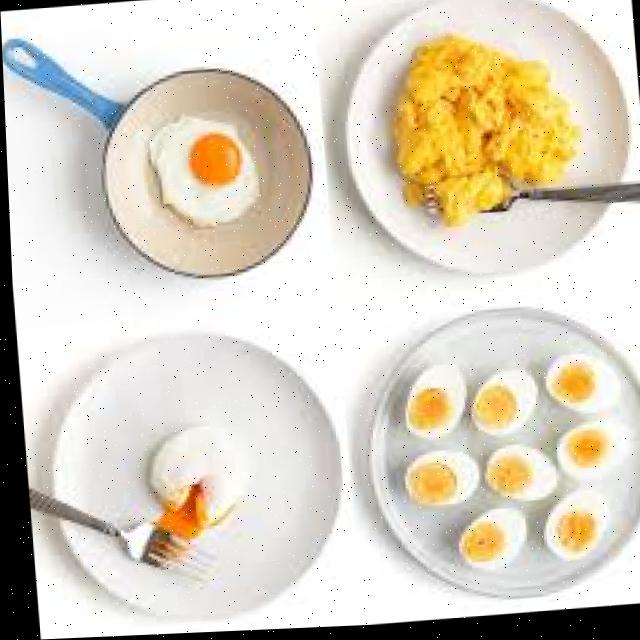Egg: (147, 116, 256, 228), (145, 427, 230, 509)
